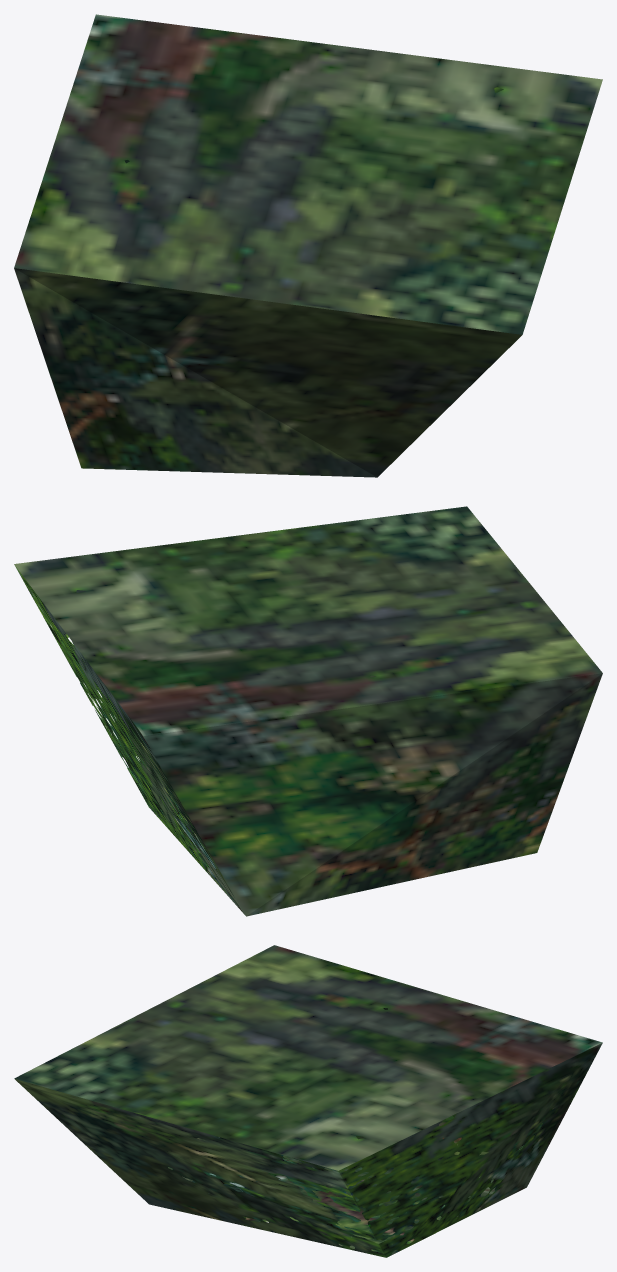
Rendered from BurntTree_1_B_2.gltf.
The picture shows the model from 3 angles, top to bottom: view 1: azimuth 30°, elevation 25°; view 2: azimuth 150°, elevation 25°; view 3: azimuth 270°, elevation 25°; orthographic projection. The views are drawn at different scales.
Parts seen in each view (by area): view 1: BurntTree_1_B_2; view 2: BurntTree_1_B_2; view 3: BurntTree_1_B_2.
Part boxes in pixels (x1,y1,x2,y2): BurntTree_1_B_2: (14,14,602,477); BurntTree_1_B_2: (14,506,602,916); BurntTree_1_B_2: (14,945,602,1257).
Bounding box in the file's own units: 1.75 × 0.6269 × 1.91.
1 material, 1 textured.
